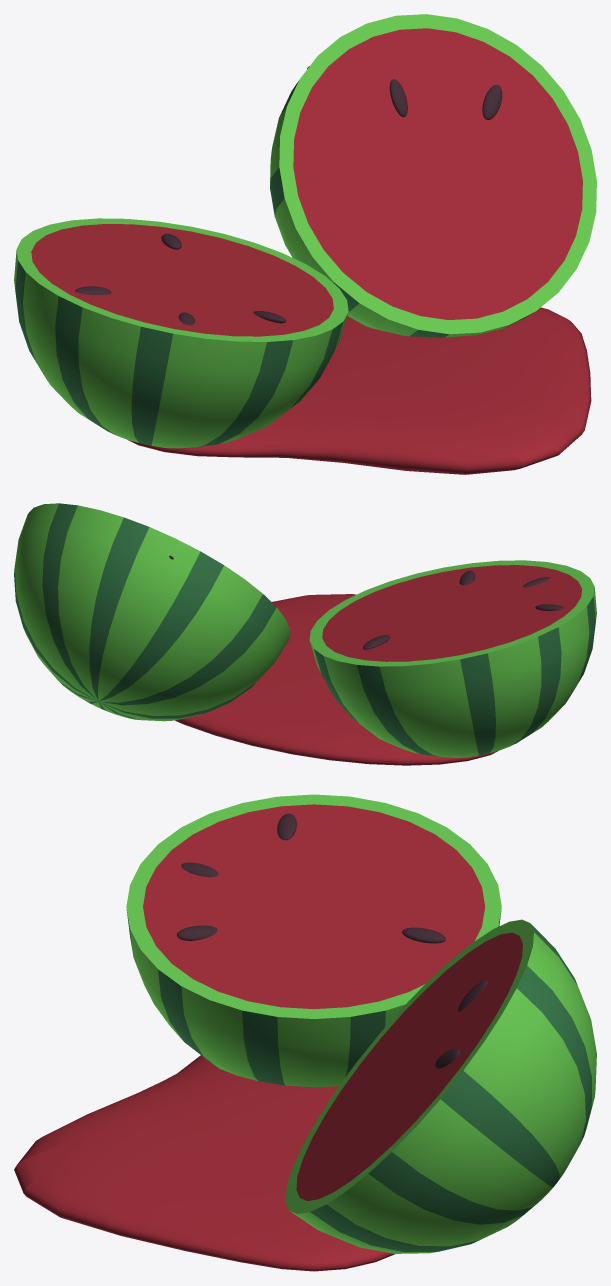
Rendered from PoorArbus.fbx.
3 renders of one model, top to bottom at view 1: azimuth 30°, elevation 25°; view 2: azimuth 150°, elevation 25°; view 3: azimuth 270°, elevation 25°, orthographic. The views are drawn at different scales.
Visible parts, largest first — view 1: Watermelon.004; view 2: Watermelon.004; view 3: Watermelon.004.
Boxes of the visible parts, x1,y1,x2,y2 form: Watermelon.004: (14,14,596,474); Watermelon.004: (14,503,596,765); Watermelon.004: (14,794,596,1271).
Bounding box in the file's own units: 464 × 206 × 357.
